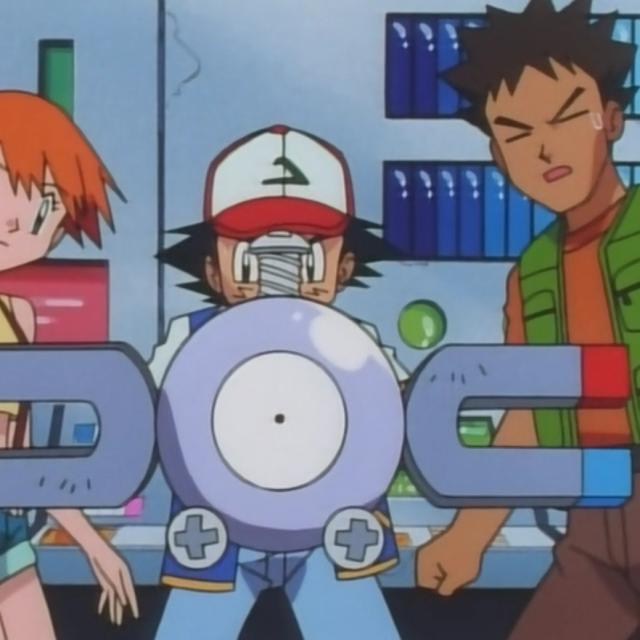Magnemite: (0, 228, 640, 581)
